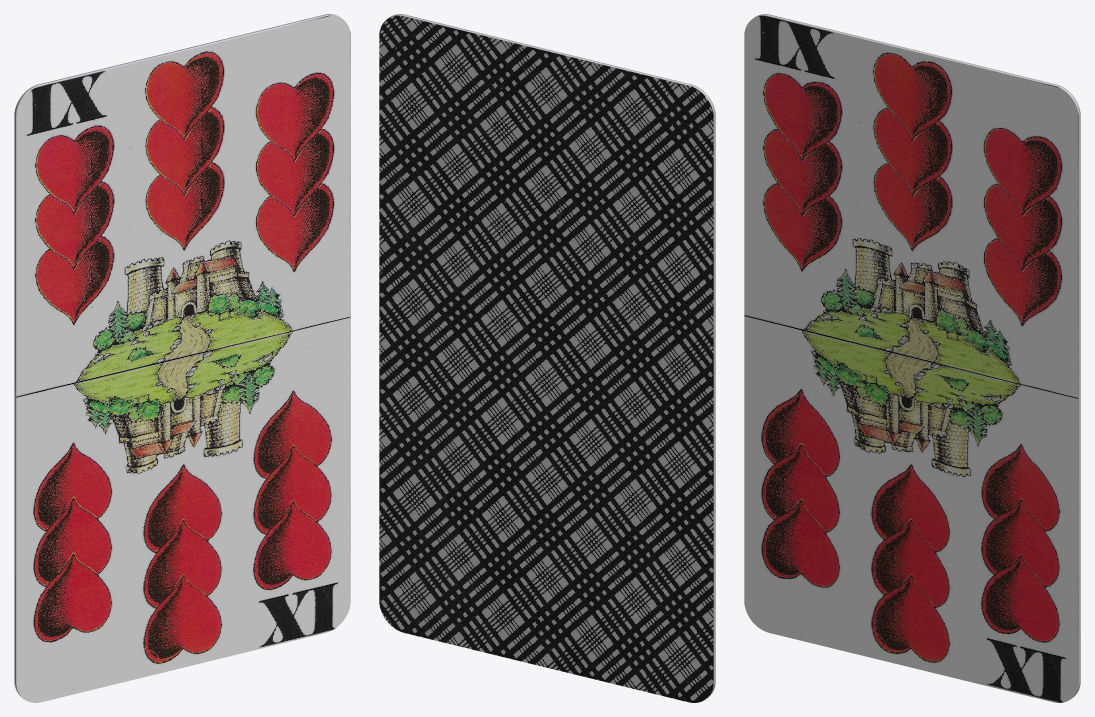
Rendered from srce9.glb.
3 views of the same model, side by side, from view 1: azimuth 30°, elevation 25°; view 2: azimuth 150°, elevation 25°; view 3: azimuth 330°, elevation 25° (orthographic).
Parts seen in each view (by area): view 1: Curve; view 2: Curve; view 3: Curve.
Part boxes in pixels (box(x1,y1,x2,y2)): Curve: box(14, 14, 350, 702); Curve: box(379, 14, 715, 702); Curve: box(744, 14, 1080, 702).
Size of the model in its own units: 3.93 by 6.93 by 0.0411.
3 materials, 2 textured.
